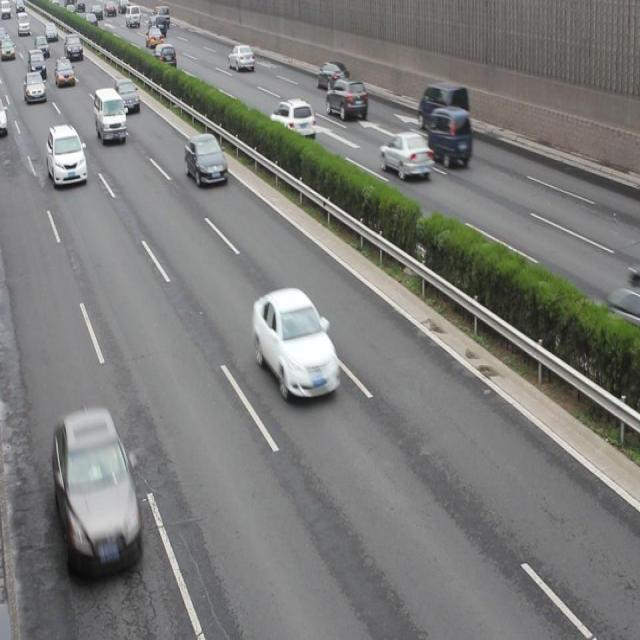car: (53, 401, 143, 576), (252, 282, 338, 399), (421, 105, 472, 166), (185, 134, 232, 190), (48, 124, 89, 188), (379, 134, 434, 179), (270, 100, 319, 141), (328, 78, 370, 120), (318, 61, 352, 91), (115, 79, 143, 112), (24, 72, 48, 104), (152, 42, 178, 68), (229, 45, 256, 70), (56, 57, 77, 86), (29, 47, 48, 77), (65, 34, 85, 61), (146, 24, 163, 47), (35, 35, 49, 57)
truck: (416, 83, 470, 133), (95, 87, 129, 143)
